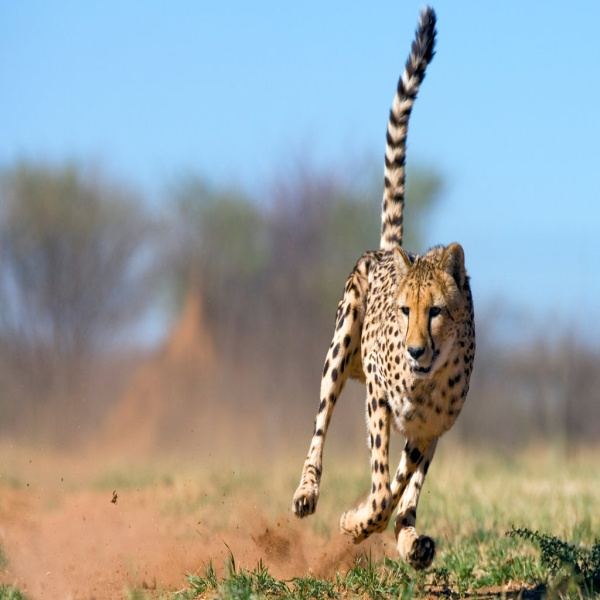Cheetah: (292, 5, 502, 572)
